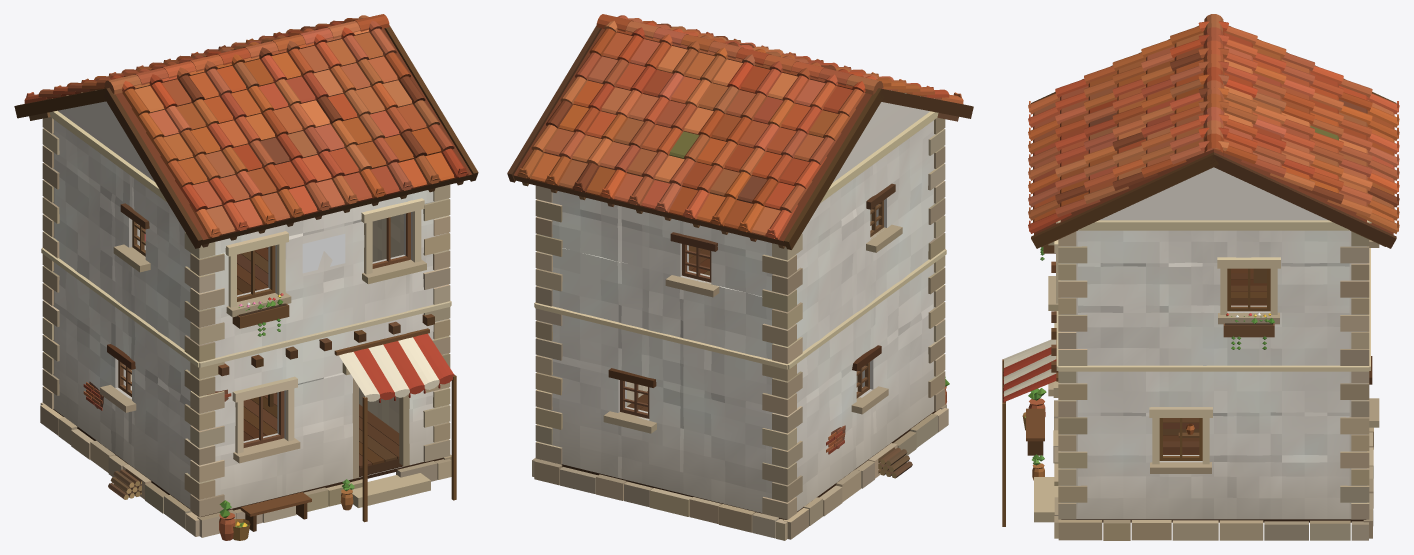
Rendered from pleb_0_2.glb.
3 views of the same model, side by side, from view 1: azimuth 30°, elevation 25°; view 2: azimuth 150°, elevation 25°; view 3: azimuth 270°, elevation 25° (orthographic).
Visible parts, largest first — view 1: House, Walls, Rooms, Notice; view 2: House, Walls, Rooms; view 3: House, Walls, Rooms.
Boxes of the visible parts, bbox=[...] form: House: bbox=[14, 14, 478, 540]; Walls: bbox=[53, 101, 446, 509]; Rooms: bbox=[130, 214, 403, 468]; Notice: bbox=[302, 234, 345, 273]; House: bbox=[507, 14, 973, 540]; Walls: bbox=[539, 102, 934, 512]; Rooms: bbox=[627, 209, 871, 411]; House: bbox=[1002, 14, 1399, 540]; Walls: bbox=[1061, 167, 1366, 519]; Rooms: bbox=[1163, 268, 1266, 454].
Size of the model in its own units: 4.21 by 5.58 by 5.06.
7 materials, 7 textured.
